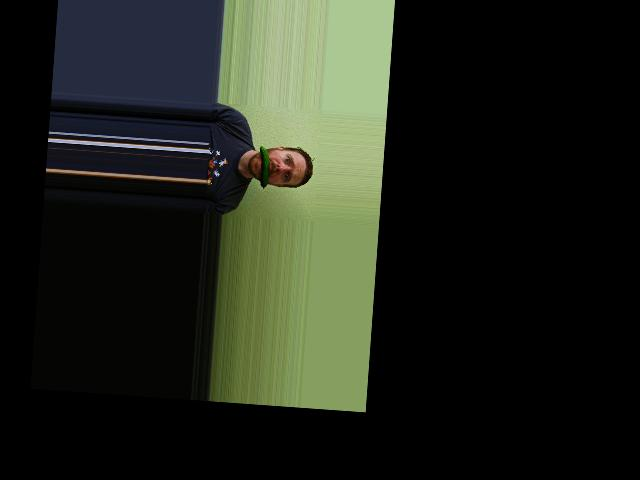cucumber: (256, 145, 270, 189)
